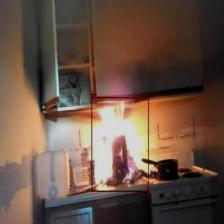fire: (91, 97, 149, 191)
